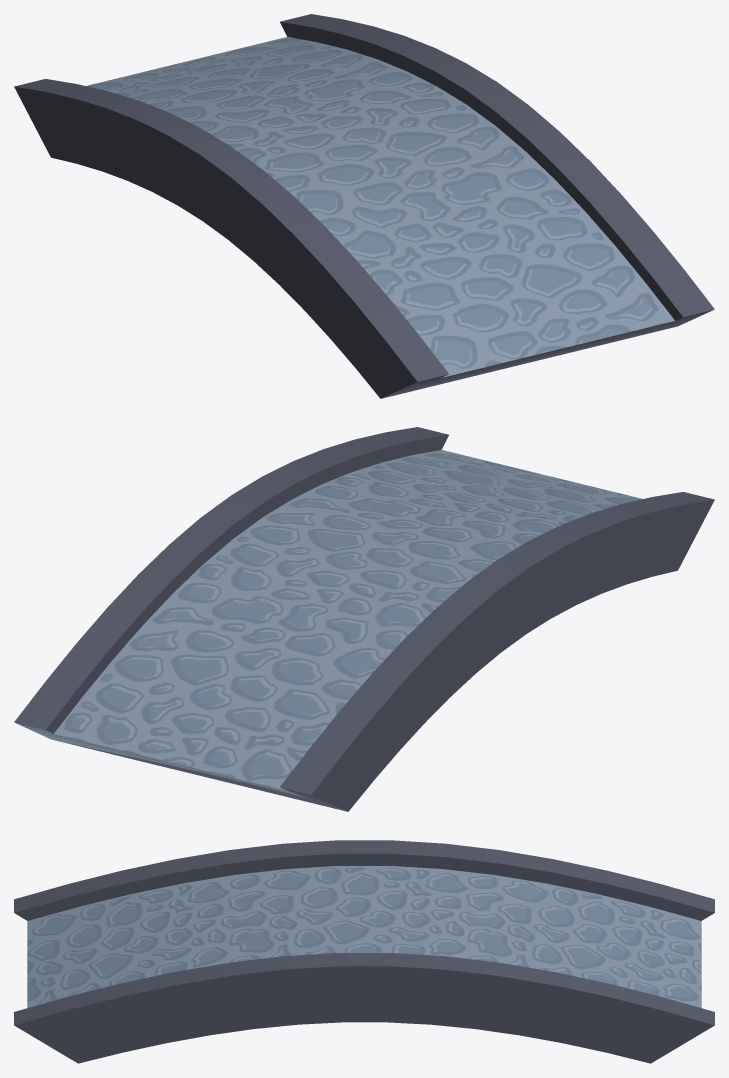
The model's file is Bridge00_Collider.fbx.
The picture shows the model from 3 angles, top to bottom: view 1: azimuth 30°, elevation 25°; view 2: azimuth 150°, elevation 25°; view 3: azimuth 270°, elevation 25°; orthographic projection. The views are drawn at different scales.
Parts seen in each view (by area): view 1: bridge00_Collider; view 2: bridge00_Collider; view 3: bridge00_Collider.
Boxes of the visible parts, x1=… form: bridge00_Collider: x1=14, y1=14, x2=714, y2=398; bridge00_Collider: x1=14, y1=427, x2=714, y2=811; bridge00_Collider: x1=14, y1=840, x2=714, y2=1063.
Size of the model in its own units: 1.27 by 0.4584 by 2.99.
